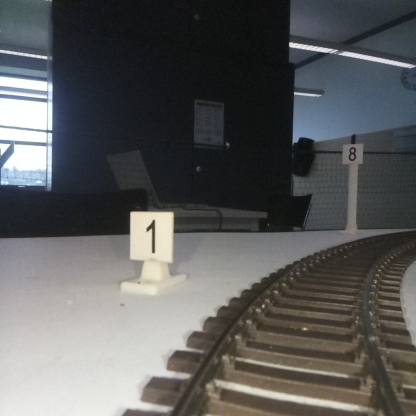white-info-8: (342, 143, 363, 234)
white-stop-1: (130, 211, 172, 292)
